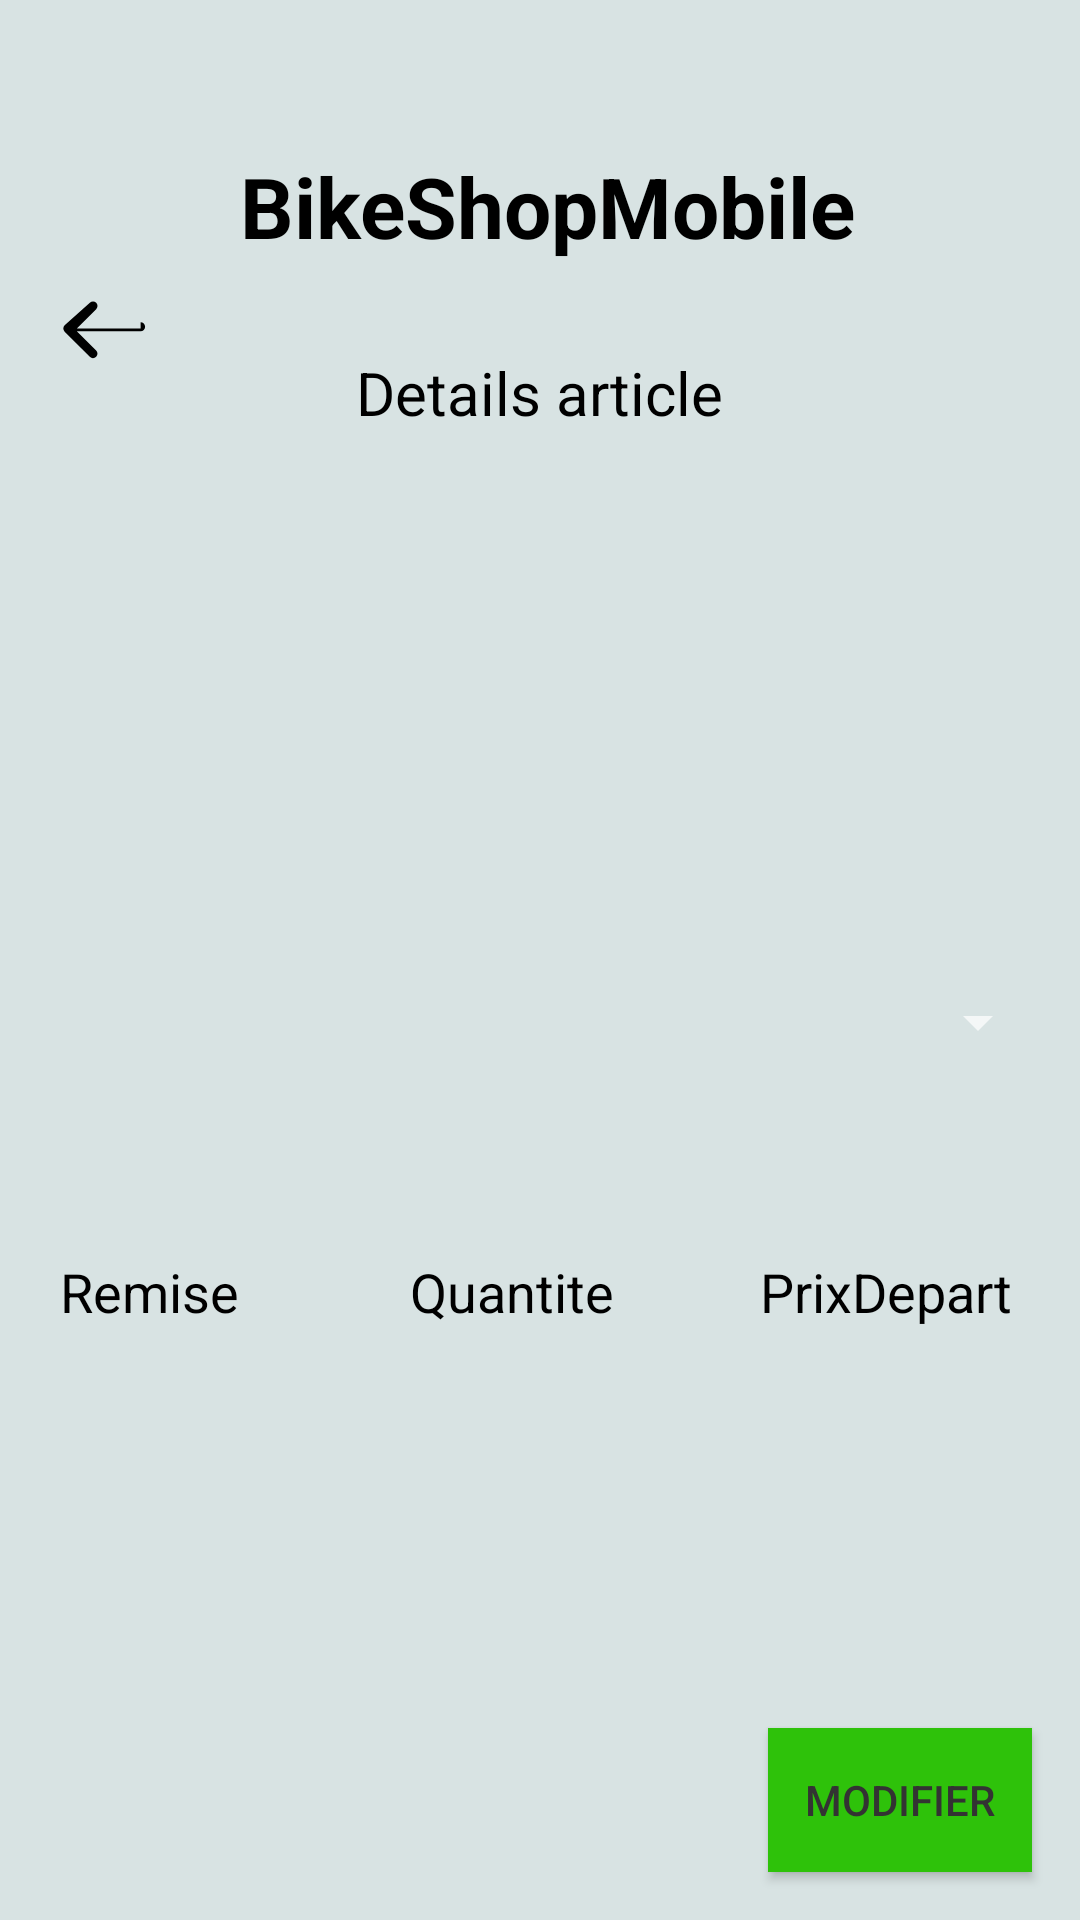

Point at icon controls on the screen. Image size 1080px x 1920px, points as (x,y).
back: (104,330)
